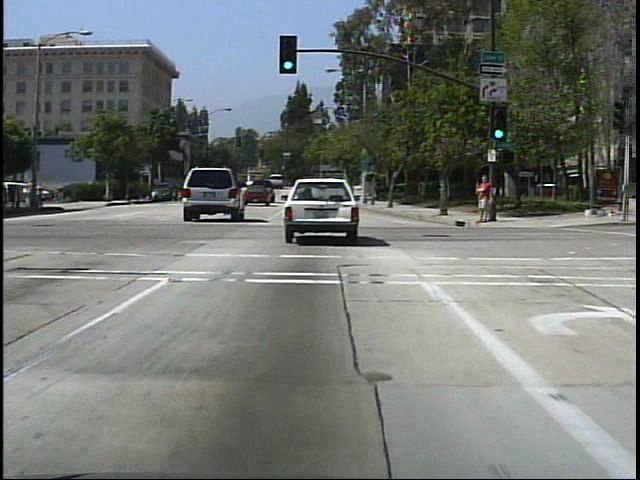person: (470, 171, 494, 227), (28, 179, 39, 212), (36, 182, 47, 209)
